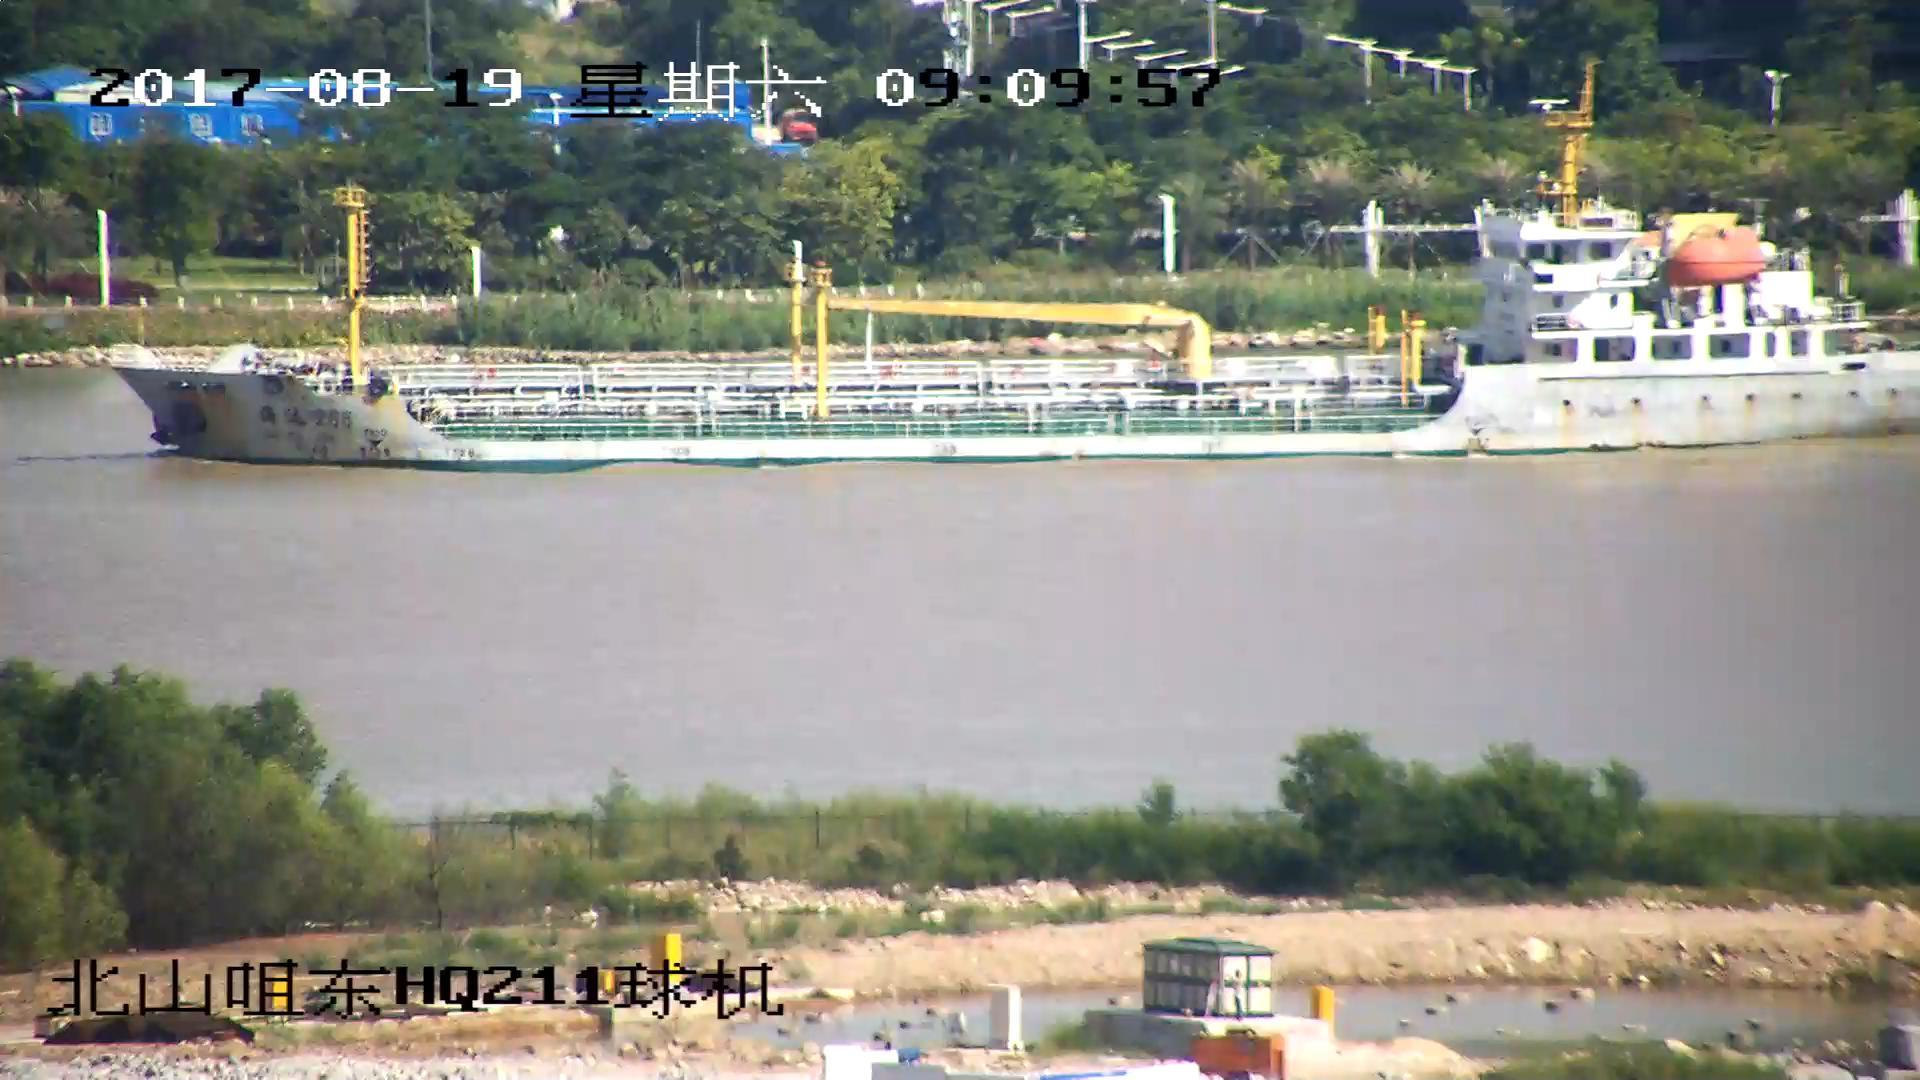Ship: (100, 109, 1920, 465)
